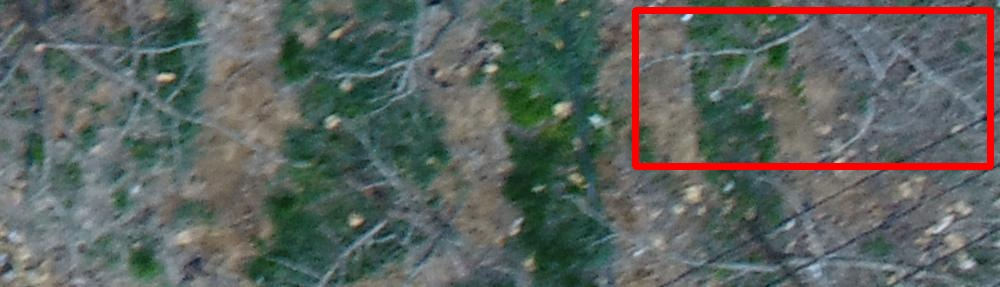apple: (635, 10, 990, 166)
